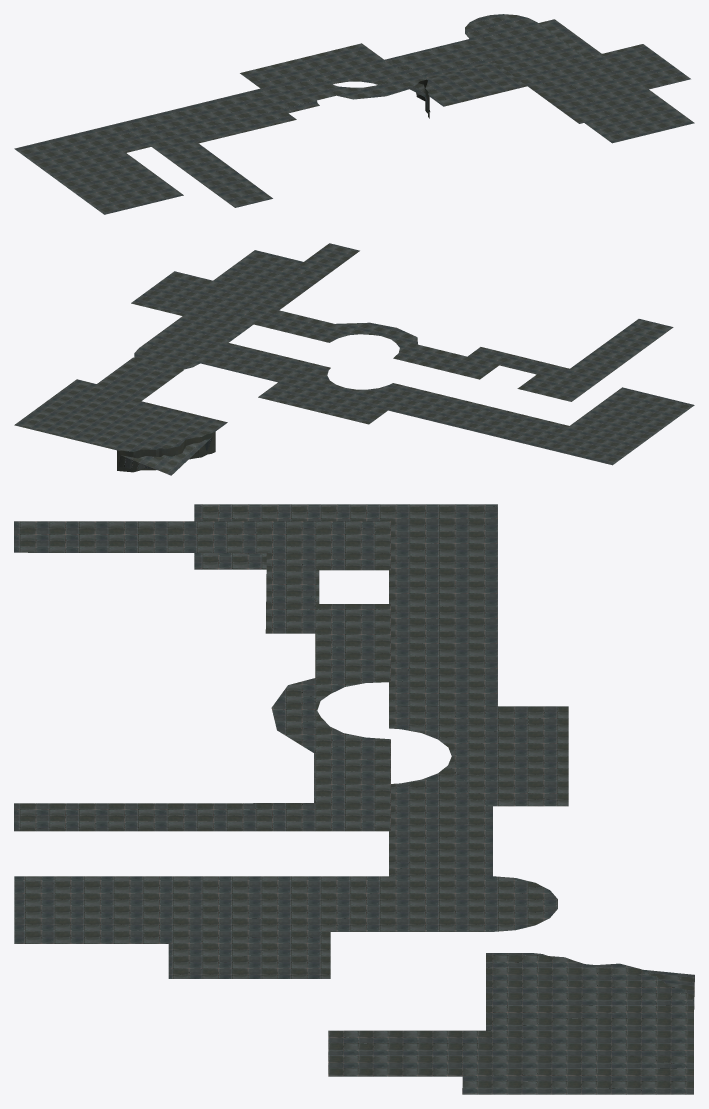
The model's file is FB4_dizhaun01.FBX.
3 renders of one model, top to bottom at view 1: azimuth 30°, elevation 25°; view 2: azimuth 150°, elevation 25°; view 3: azimuth 270°, elevation 25°, orthographic. The views are drawn at different scales.
Parts seen in each view (by area): view 1: FB4_dizhaun01_001, FB4_dizhaun01_002, FB4_dizhaun01_003; view 2: FB4_dizhaun01_001, FB4_dizhaun01_002, FB4_dizhaun01_003, FB4_dizhaun01_004; view 3: FB4_dizhaun01_001, FB4_dizhaun01_002, FB4_dizhaun01_003.
Boxes of the visible parts, x1,y1,x2,y2 form: FB4_dizhaun01_001: [14, 14, 694, 214]; FB4_dizhaun01_002: [123, 33, 612, 207]; FB4_dizhaun01_003: [416, 19, 601, 118]; FB4_dizhaun01_001: [131, 250, 694, 465]; FB4_dizhaun01_002: [227, 243, 673, 401]; FB4_dizhaun01_003: [14, 357, 227, 472]; FB4_dizhaun01_004: [118, 437, 212, 475]; FB4_dizhaun01_001: [14, 504, 568, 978]; FB4_dizhaun01_002: [14, 521, 390, 831]; FB4_dizhaun01_003: [328, 953, 693, 1094].
Size of the model in its own units: 13657 by 2382 by 8009.
